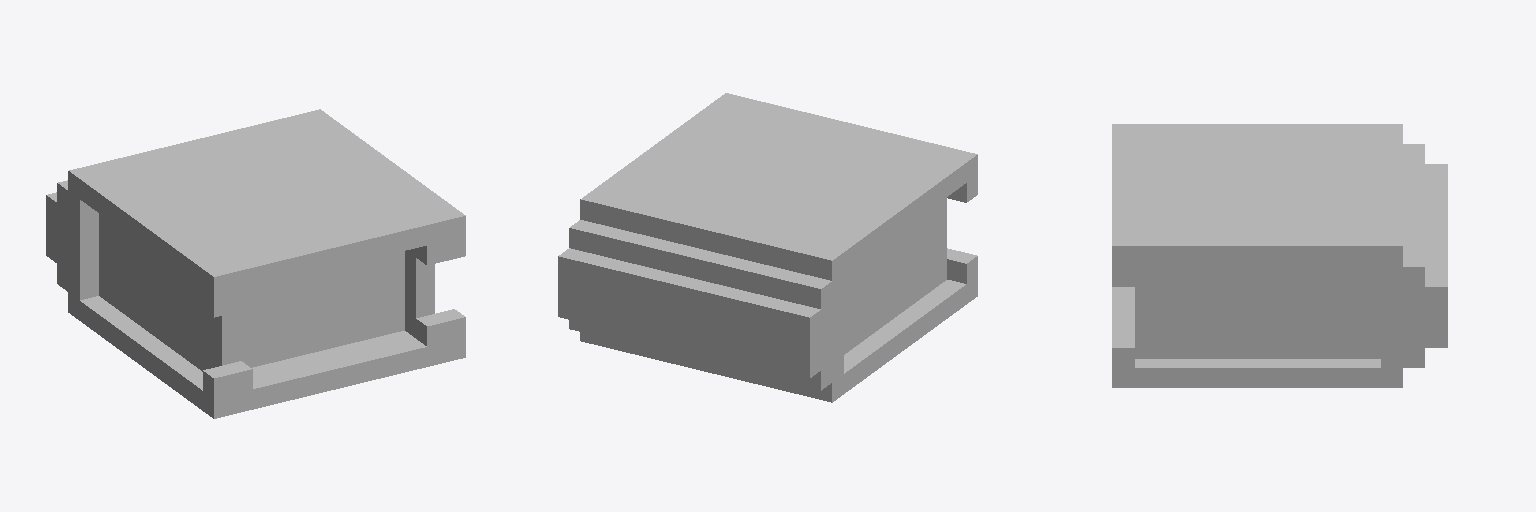
Rendered from Book.obj.
3 renders of one model, left to right at view 1: azimuth 30°, elevation 25°; view 2: azimuth 150°, elevation 25°; view 3: azimuth 270°, elevation 25°, orthographic.
Parts seen in each view (by area): view 1: object 1; view 2: object 1; view 3: object 1.
Part boxes in pixels (left/top/right/bottom): object 1: left=46, top=109, right=465, bottom=418; object 1: left=558, top=93, right=977, bottom=402; object 1: left=1112, top=124, right=1447, bottom=387.
Size of the model in its own units: 1.3 by 0.7 by 1.5.